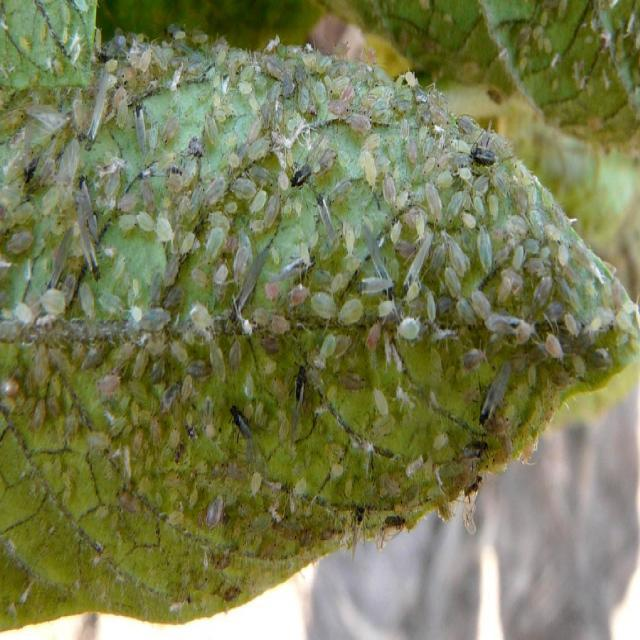Aphids: (0, 2, 640, 616), (376, 0, 640, 148)
